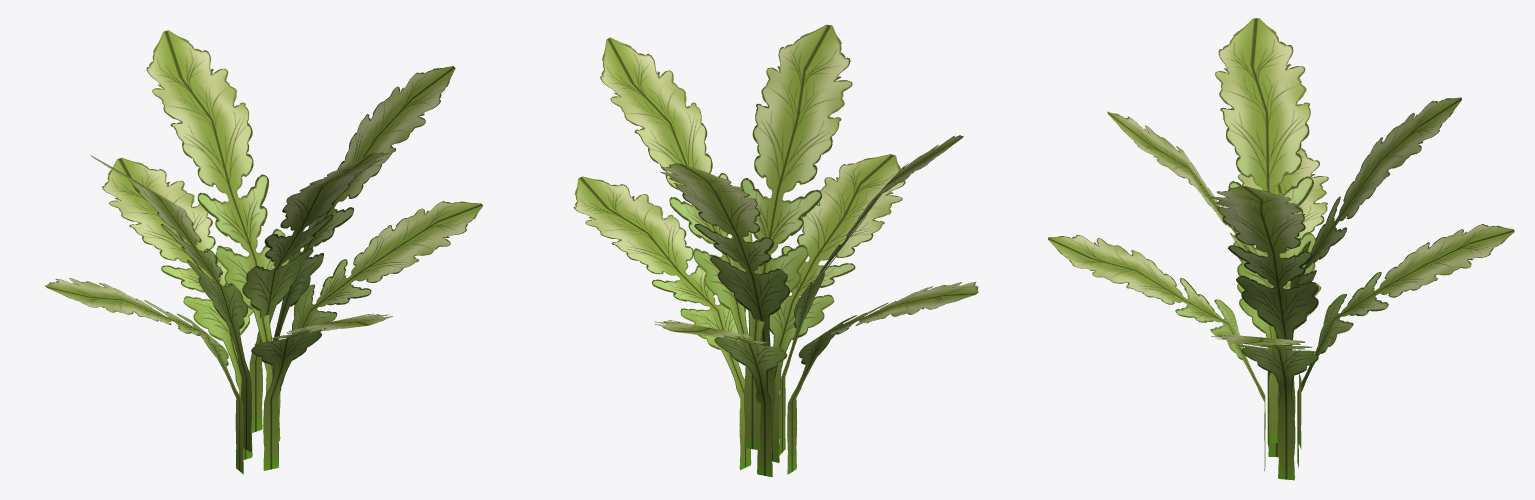
The model's file is Radish_Stage_1.fbx.
3 views of the same model, side by side, from view 1: azimuth 30°, elevation 25°; view 2: azimuth 150°, elevation 25°; view 3: azimuth 270°, elevation 25° (orthographic).
Parts seen in each view (by area): view 1: Radish_Level1; view 2: Radish_Level1; view 3: Radish_Level1.
Boxes of the visible parts, x1=… form: Radish_Level1: x1=45, y1=30, x2=482, y2=474; Radish_Level1: x1=573, y1=24, x2=978, y2=477; Radish_Level1: x1=1048, y1=18, x2=1514, y2=480.
Bounding box in the file's own units: 75.16 × 61.98 × 72.41.
1 material, 1 textured.
